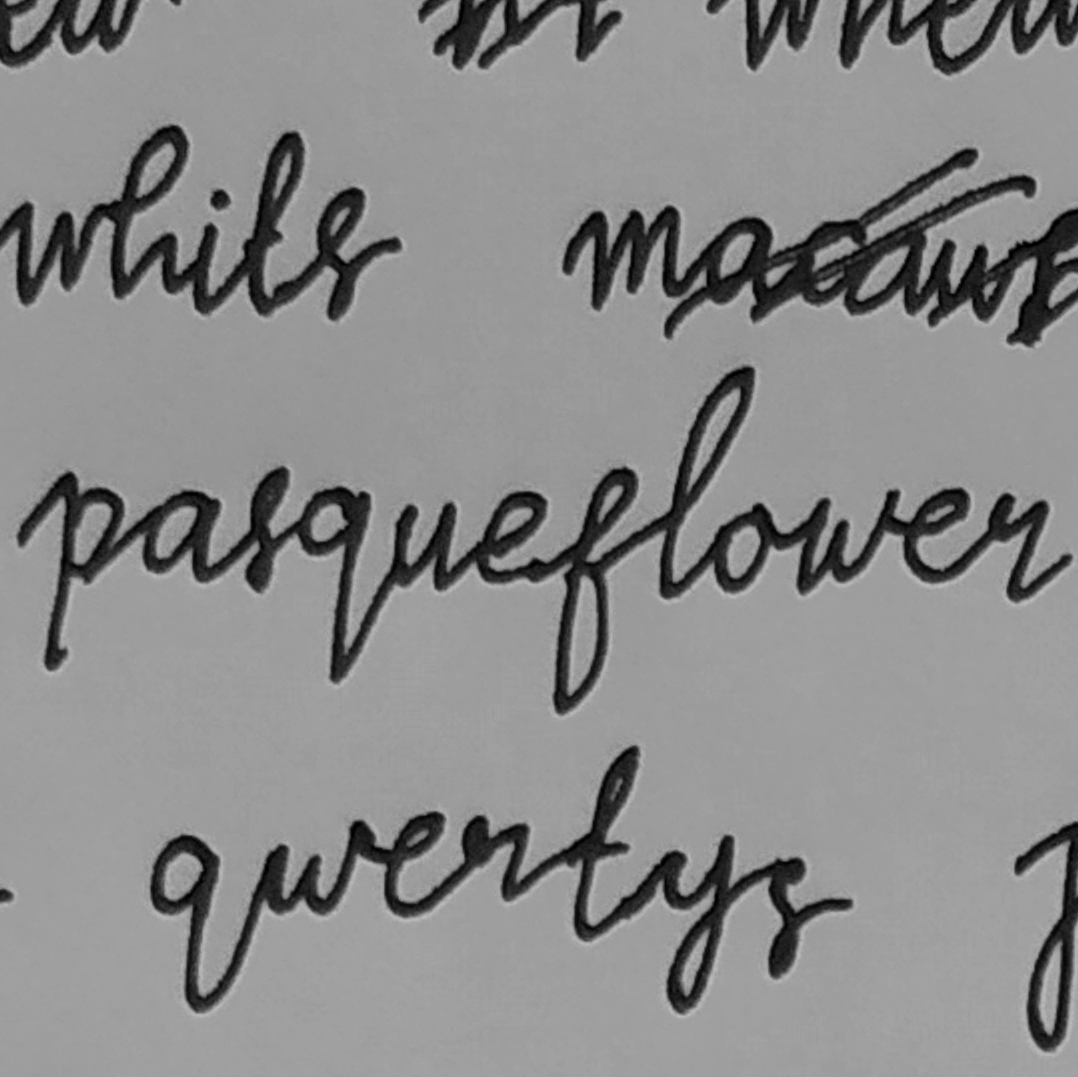a: (135, 473, 228, 601)
e: (469, 480, 552, 592), (898, 478, 978, 588)
f: (536, 457, 648, 720)
l: (653, 361, 767, 606)
o: (700, 499, 783, 610)
p: (33, 464, 135, 680)
q: (295, 477, 376, 686)
r: (978, 479, 1076, 612)
s: (231, 452, 294, 602)
u: (383, 486, 463, 599)
w: (786, 478, 903, 601)
